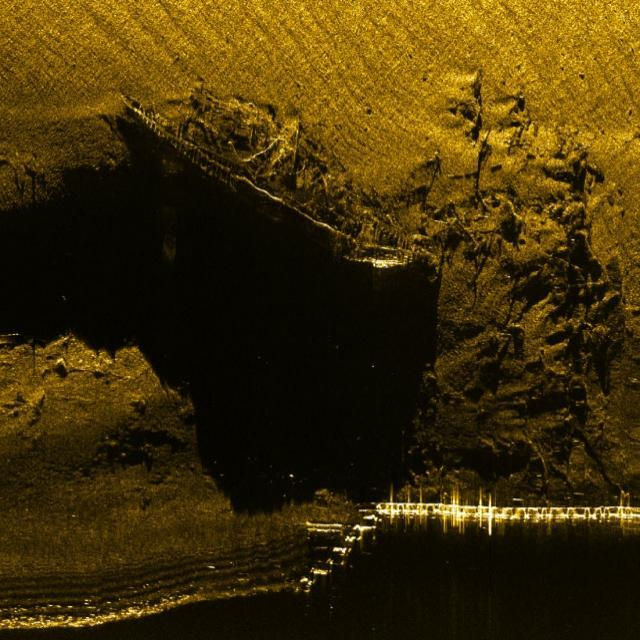shipwreck: (118, 76, 440, 280)
